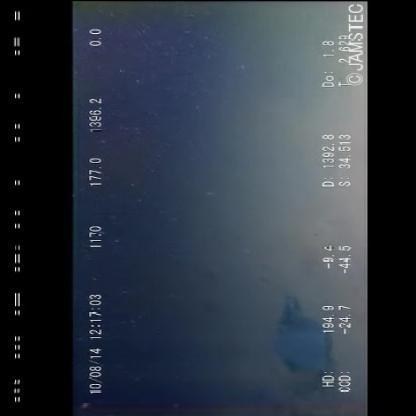Rác: (268, 288, 335, 378)
